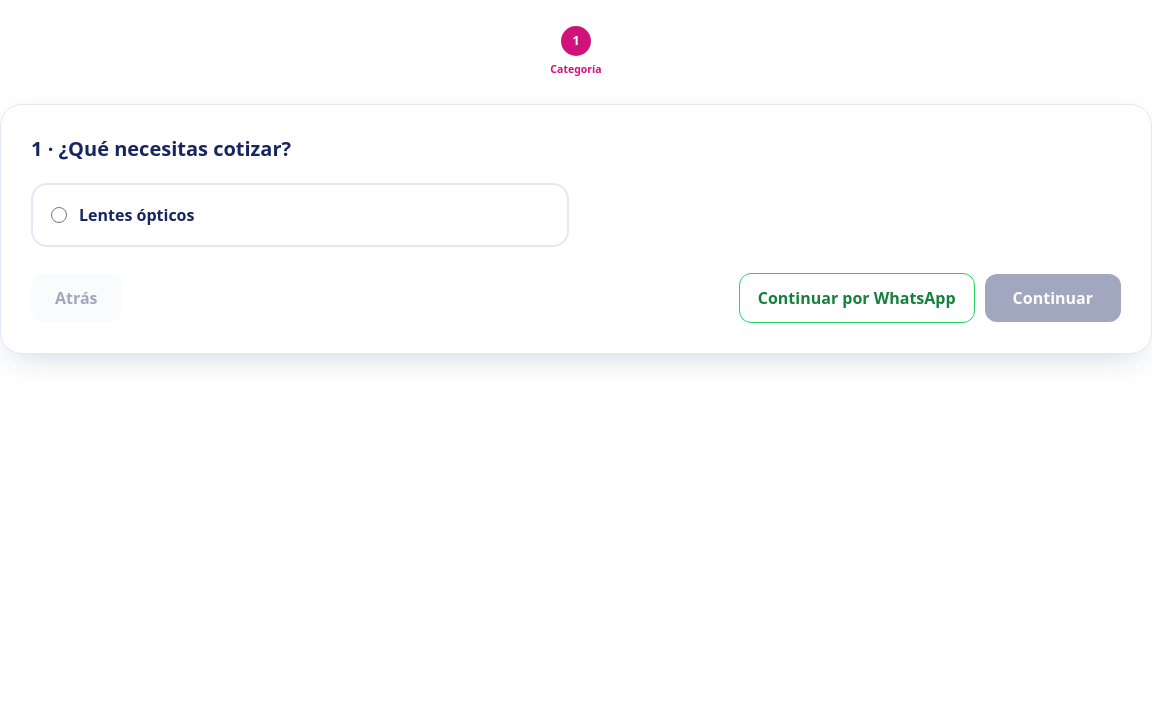
Test: components/quote/QuoteWizard › flujo óptico: la asesoría lleva al paso de cristal con exactamente Monofocal/Bifocal/Progresivo, nunca Multifocal
Click the radio button labelled "Lentes ópticos": x=59, y=215 top-left (51, 207), bottom-right (67, 223)
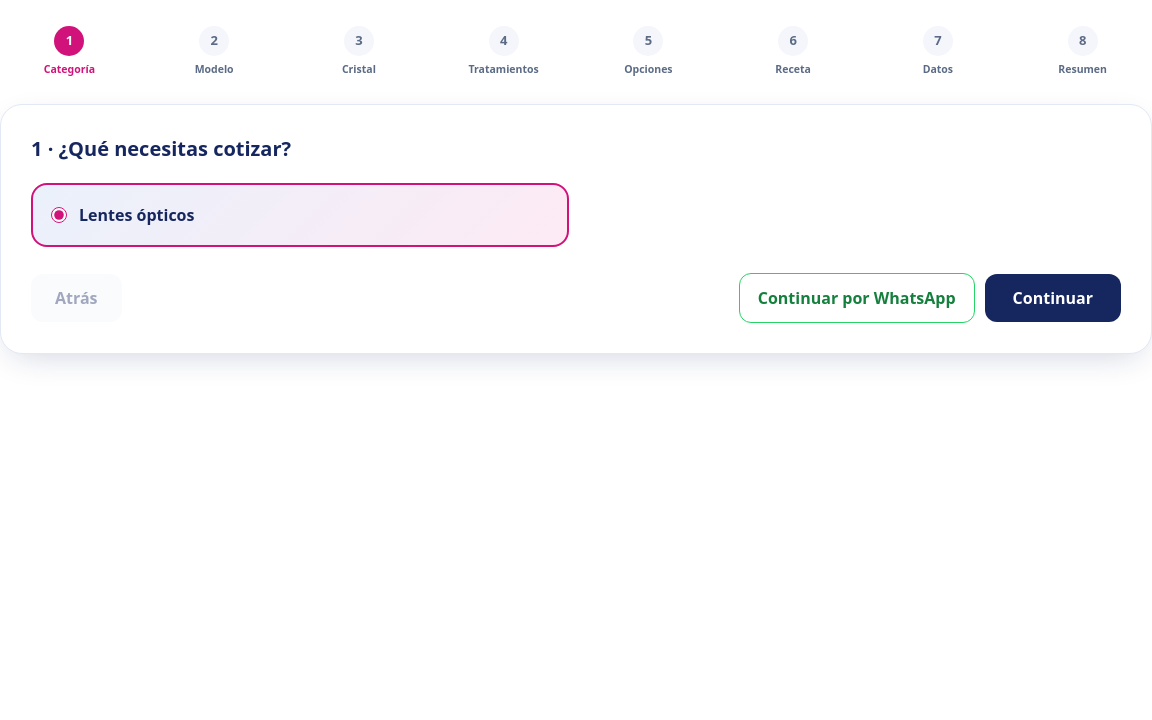
Click the button "Continuar": x=1053, y=298 top-left (985, 274), bottom-right (1121, 322)
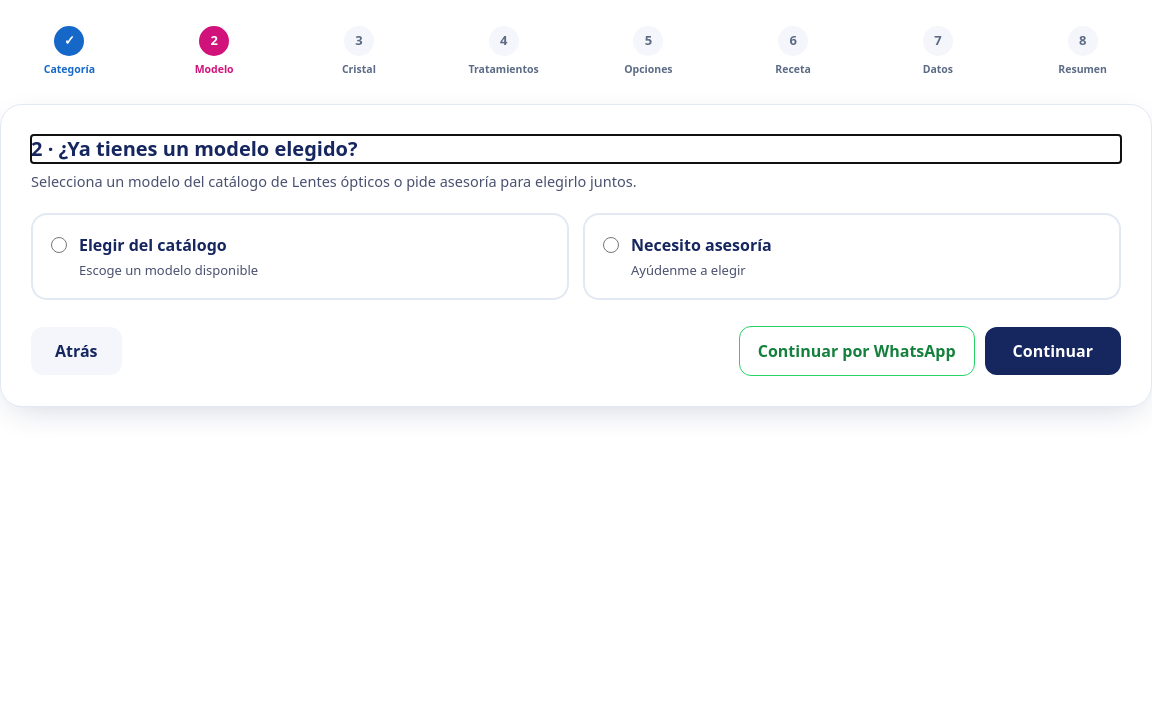
Click the radio button labelled "Necesito asesoría": x=611, y=244 top-left (603, 236), bottom-right (619, 252)
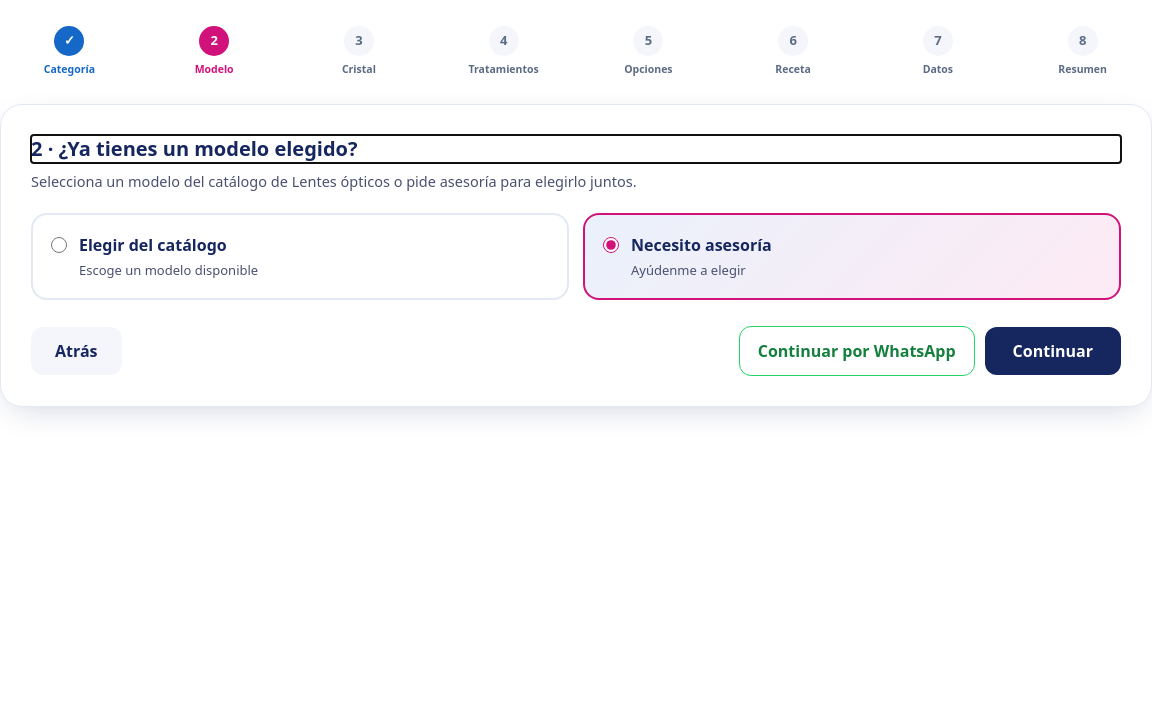
Click the button "Continuar": x=1053, y=351 top-left (985, 327), bottom-right (1121, 375)
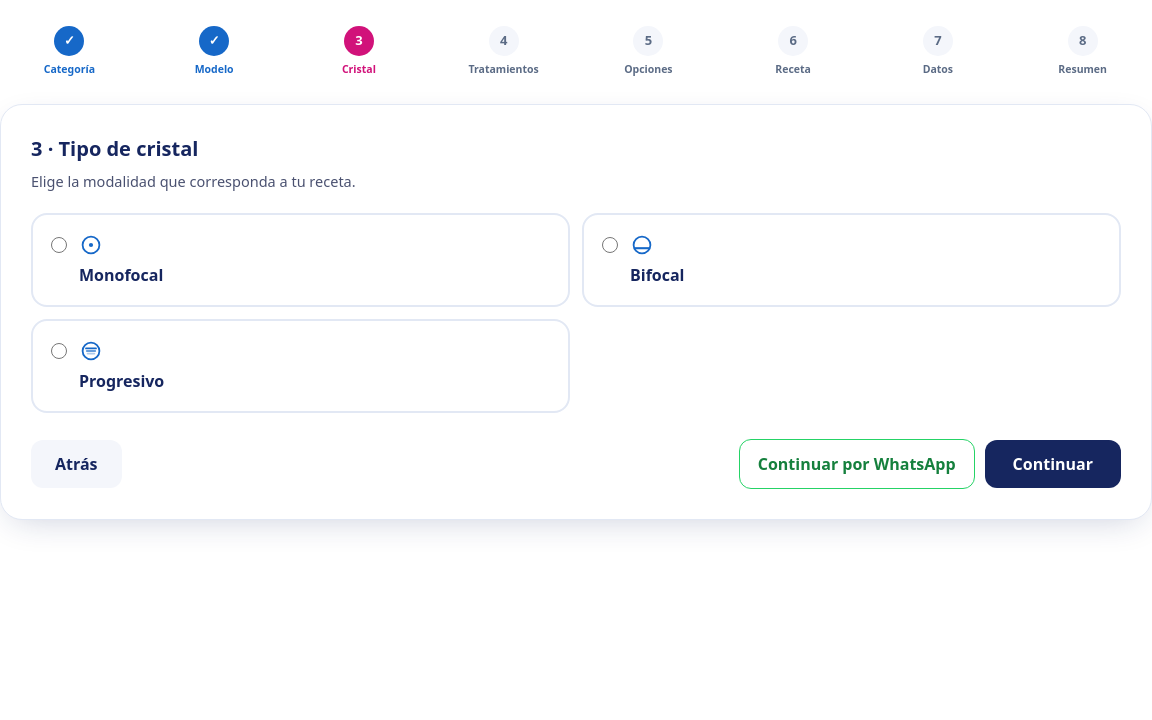
Expected: the radio button labelled "Monofocal" is shown, top-left (51, 236), bottom-right (67, 252)
Expected: the radio button labelled "Bifocal" is shown, top-left (602, 236), bottom-right (618, 252)
Expected: the radio button labelled "Progresivo" is shown, top-left (51, 342), bottom-right (67, 358)
